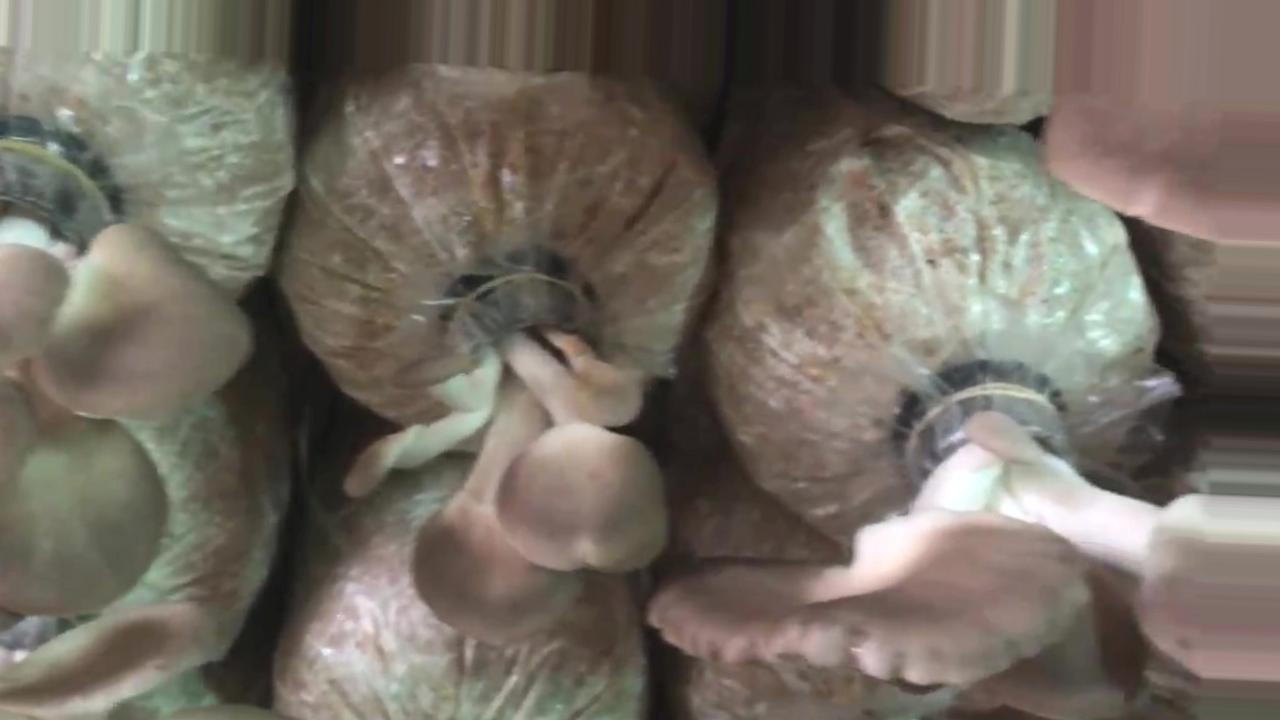nam: (650, 357, 1280, 687), (341, 256, 674, 639), (1, 131, 253, 617)
